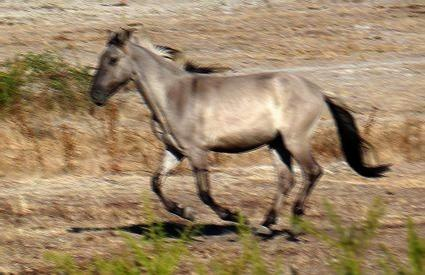horse: (88, 26, 392, 239)
